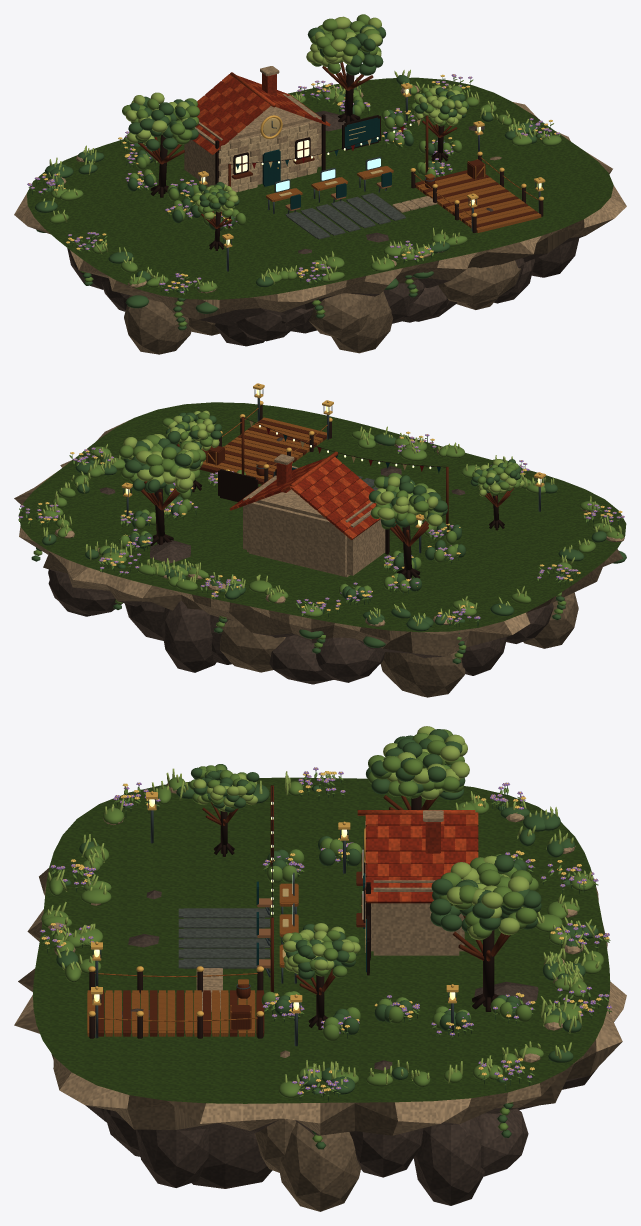
The model's file is oclock.glb.
The picture shows the model from 3 angles, top to bottom: view 1: azimuth 30°, elevation 25°; view 2: azimuth 150°, elevation 25°; view 3: azimuth 270°, elevation 25°; orthographic projection. The views are drawn at different scales.
Visible parts, largest first — view 1: GEO-oclock-grass, GEO-oclock-rockLight, GEO-oclock-leaf, GEO-oclock-leafDark, GEO-oclock-stone, GEO-oclock-rock, GEO-oclock-leafLight, GEO-oclock-oak, GEO-oclock-wood, GEO-oclock-darkwood, GEO-oclock-yard, GEO-oclock-tile (+9 smaller); view 2: GEO-oclock-grass, GEO-oclock-rock, GEO-oclock-stone, GEO-oclock-leaf, GEO-oclock-rockLight, GEO-oclock-leafDark, GEO-oclock-leafLight, GEO-oclock-tile, GEO-oclock-wood, GEO-oclock-darkwood, GEO-oclock-oak, GEO-oclock-tileLight (+4 smaller); view 3: GEO-oclock-grass, GEO-oclock-leaf, GEO-oclock-rock, GEO-oclock-stone, GEO-oclock-leafDark, GEO-oclock-rockLight, GEO-oclock-leafLight, GEO-oclock-oak, GEO-oclock-wood, GEO-oclock-yard, GEO-oclock-tile, GEO-oclock-darkwood (+5 smaller).
Boxes of the visible parts, <box> form: GEO-oclock-grass: <box>27,77,613,299</box>; GEO-oclock-rockLight: <box>30,156,612,354</box>; GEO-oclock-leaf: <box>28,14,561,326</box>; GEO-oclock-leafDark: <box>29,21,558,330</box>; GEO-oclock-stone: <box>14,66,626,308</box>; GEO-oclock-rock: <box>67,111,585,346</box>; GEO-oclock-leafLight: <box>43,16,550,287</box>; GEO-oclock-oak: <box>266,157,541,232</box>; GEO-oclock-wood: <box>138,62,538,228</box>; GEO-oclock-darkwood: <box>150,72,543,250</box>; GEO-oclock-yard: <box>285,193,406,239</box>; GEO-oclock-tile: <box>192,76,321,151</box>; GEO-oclock-grass: <box>18,402,626,632</box>; GEO-oclock-rock: <box>45,437,553,684</box>; GEO-oclock-stone: <box>14,419,624,640</box>; GEO-oclock-leaf: <box>18,412,624,658</box>; GEO-oclock-rockLight: <box>20,466,621,697</box>; GEO-oclock-leafDark: <box>20,412,626,664</box>; GEO-oclock-leafLight: <box>43,410,621,626</box>; GEO-oclock-tile: <box>235,459,377,536</box>; GEO-oclock-wood: <box>141,416,513,546</box>; GEO-oclock-darkwood: <box>150,405,504,581</box>; GEO-oclock-oak: <box>202,408,327,479</box>; GEO-oclock-tileLight: <box>229,451,380,539</box>; GEO-oclock-grass: <box>33,777,610,1103</box>; GEO-oclock-leaf: <box>39,729,611,1142</box>; GEO-oclock-rock: <box>85,890,597,1205</box>; GEO-oclock-stone: <box>14,782,626,1123</box>; GEO-oclock-leafDark: <box>42,729,609,1149</box>; GEO-oclock-rockLight: <box>19,932,622,1211</box>; GEO-oclock-leafLight: <box>47,726,599,1085</box>; GEO-oclock-oak: <box>87,883,298,1036</box>; GEO-oclock-wood: <box>98,785,510,1036</box>; GEO-oclock-yard: <box>178,908,269,968</box>; GEO-oclock-tile: <box>365,814,478,903</box>; GEO-oclock-darkwood: <box>89,786,498,1038</box>.
Bounding box in the file's own units: 33.25 × 13.04 × 25.51.
Materials: 25 (15 with a texture image).
